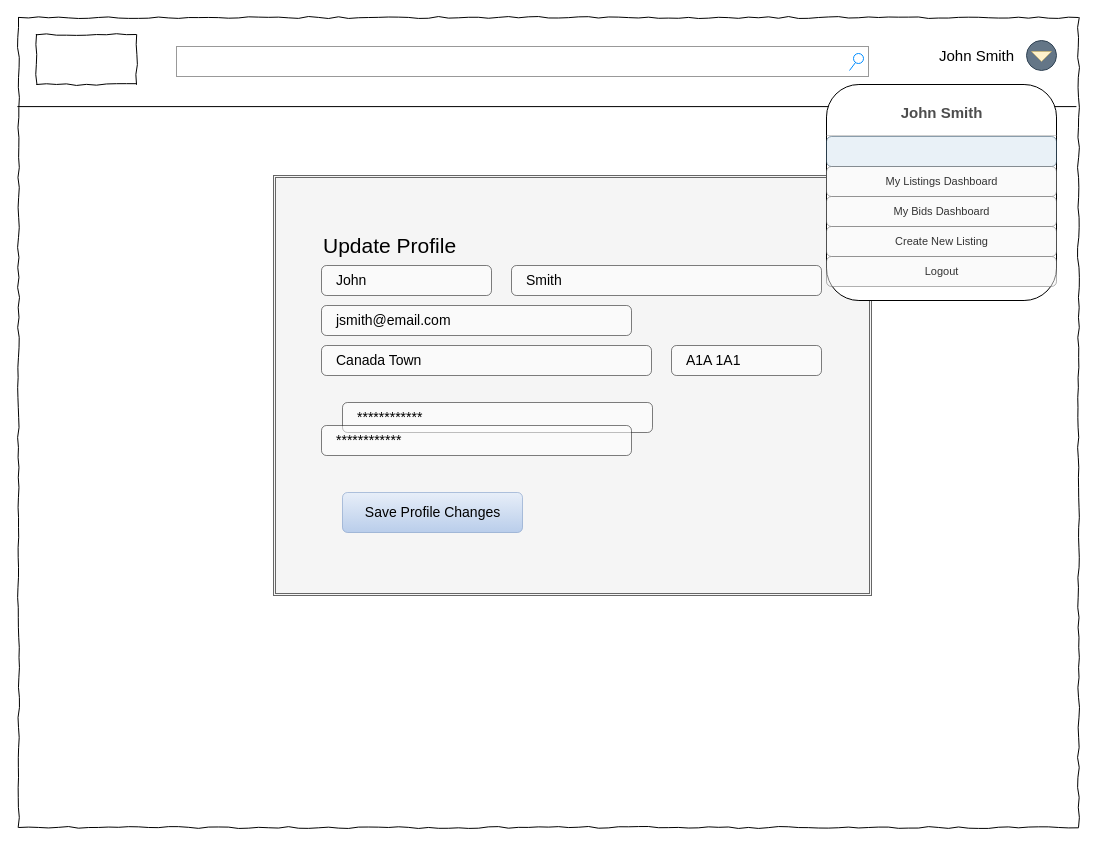
The diagram is 1097 pixels wide and 845 high, and some of its shapes have lost their labels. The shapes that lost their labels are listed below. From the top down, each one's box as (x1, y1, x2, y2) in pixels, then its label:
(36, 34, 136, 84): LOGO
(176, 46, 868, 76): Search
(826, 136, 1056, 166): Update My Profile
